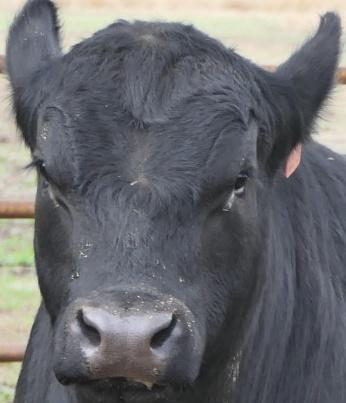muzzles: (49, 292, 208, 395)
